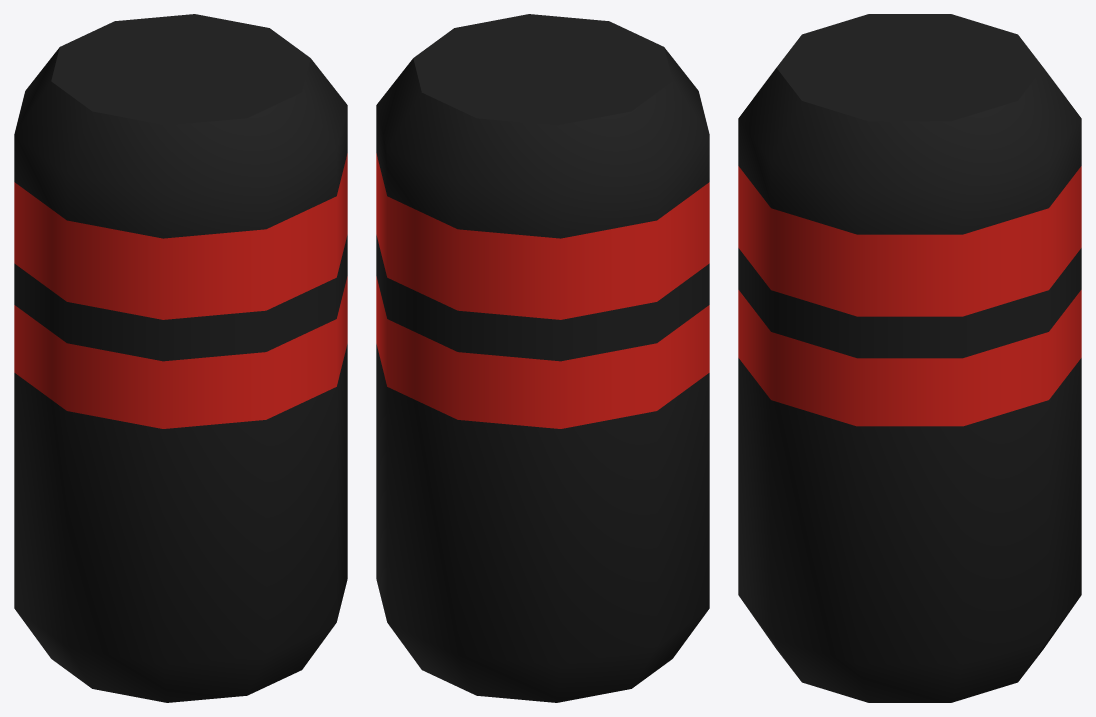
The model's file is Soda_Can.glb.
3 renders of one model, left to right at view 1: azimuth 30°, elevation 25°; view 2: azimuth 150°, elevation 25°; view 3: azimuth 270°, elevation 25°, orthographic.
Parts seen in each view (by area): view 1: Environment_CanFridge; view 2: Environment_CanFridge; view 3: Environment_CanFridge.
Boxes of the visible parts, <box> form: Environment_CanFridge: <box>14,14,347,702</box>; Environment_CanFridge: <box>376,14,709,702</box>; Environment_CanFridge: <box>738,14,1081,702</box>.
Bounding box in the file's own units: 0.8739 × 1.72 × 0.9188.
1 material, 1 textured.
